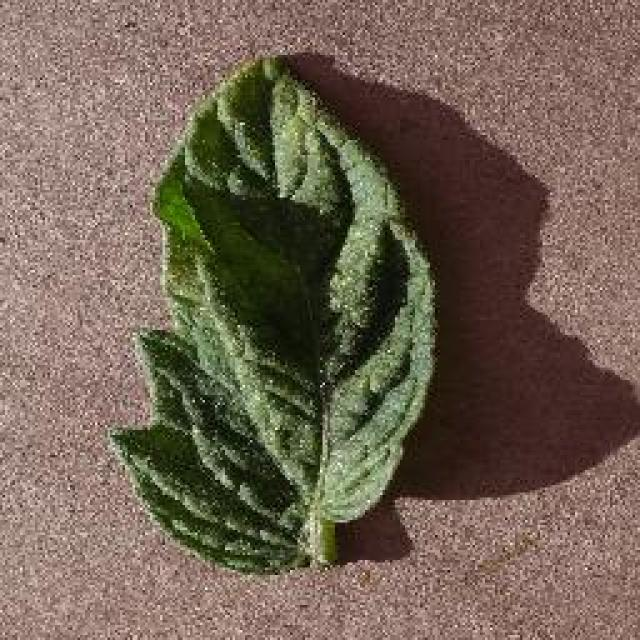Tomato___Spider_mites Two-spotted_spider_mite: (110, 58, 432, 570)
